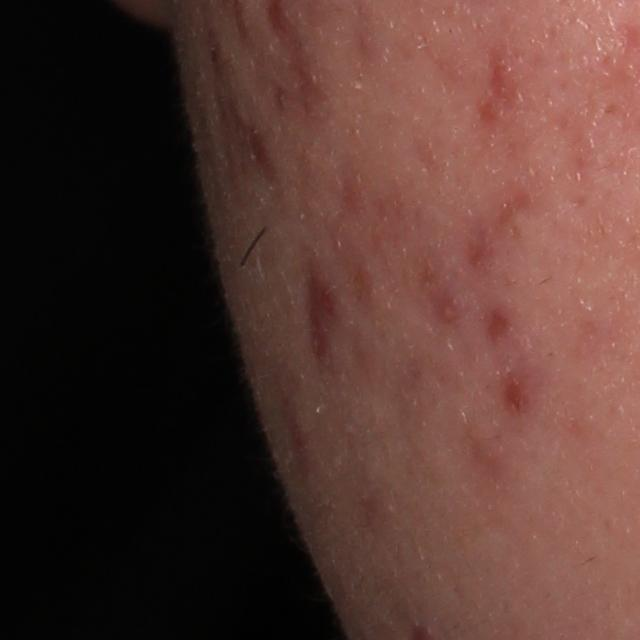papule: (500, 372, 532, 411)
